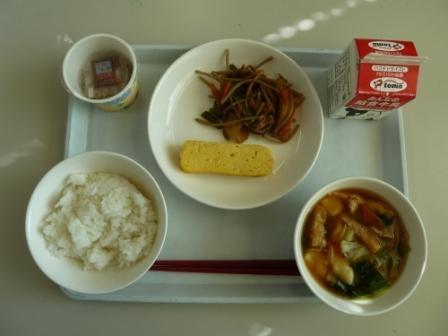Bread: (170, 132, 279, 183)
Milk: (330, 34, 421, 127)
Rice: (29, 150, 166, 287)
Soups: (291, 182, 417, 301)
salad with sauce: (192, 52, 307, 138)
